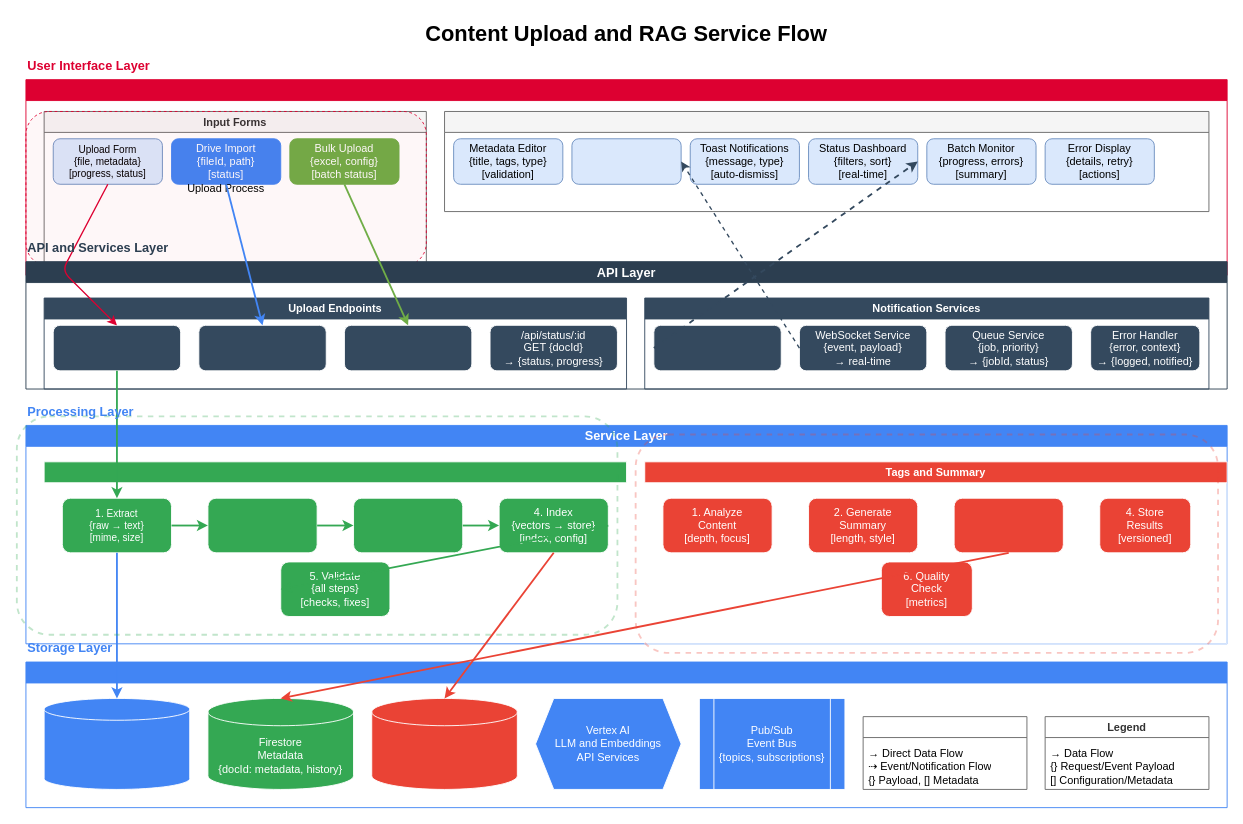
Some shapes in this 1243 by 824 pixel diagram are drawn without their labels. The shapes that lost their labels are listed below. From the top down, each one's box as (x1, y1, x2, y2) in pixels, then its label:
(571, 138, 681, 184): Progress Tracker {status, stage} [completion %]
(25, 79, 1227, 275): Frontend Components
(444, 111, 1209, 212): UI Components
(52, 324, 181, 371): /api/upload POST {file, metadata} → {docId, status}
(198, 324, 326, 371): /api/drive/import POST {fileId, config} → {docId, status}
(344, 324, 472, 371): /api/bulk/upload POST {excel, config} → {batchId, count}
(653, 324, 781, 371): Email Service {template, data} → {sent, error}
(207, 497, 317, 553): 2. Chunk {text → segments} [size, overlap]
(43, 461, 627, 626): Document Processing Pipeline
(353, 497, 463, 553): 3. Embed {segments → vectors} [model, dim]
(953, 497, 1063, 553): 3. Generate Tags [categories]
(43, 698, 190, 789): Cloud Storage Raw Files {docId: file, version}
(371, 698, 517, 789): Vector Store Embeddings {docId: vector[], config}
(25, 661, 1227, 808): Google Cloud Platform
(862, 716, 1027, 789): Data Flow Types
